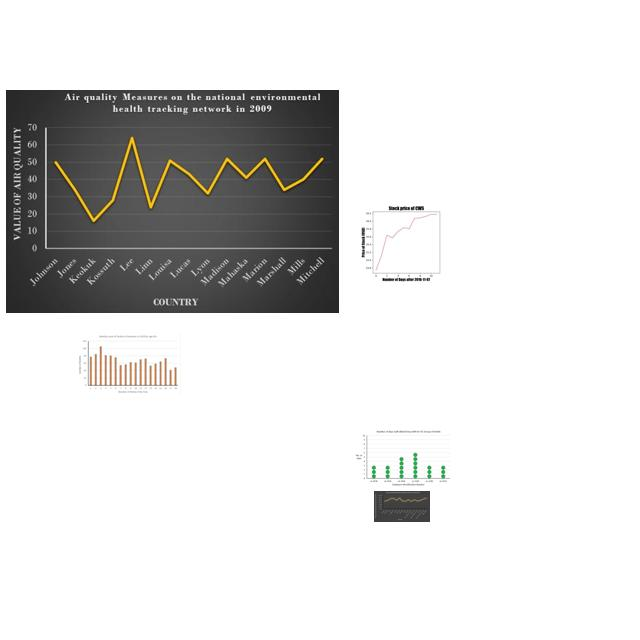Graph: (6, 90, 339, 313), (352, 202, 458, 282), (76, 333, 181, 396), (354, 428, 452, 489), (374, 491, 430, 522)
